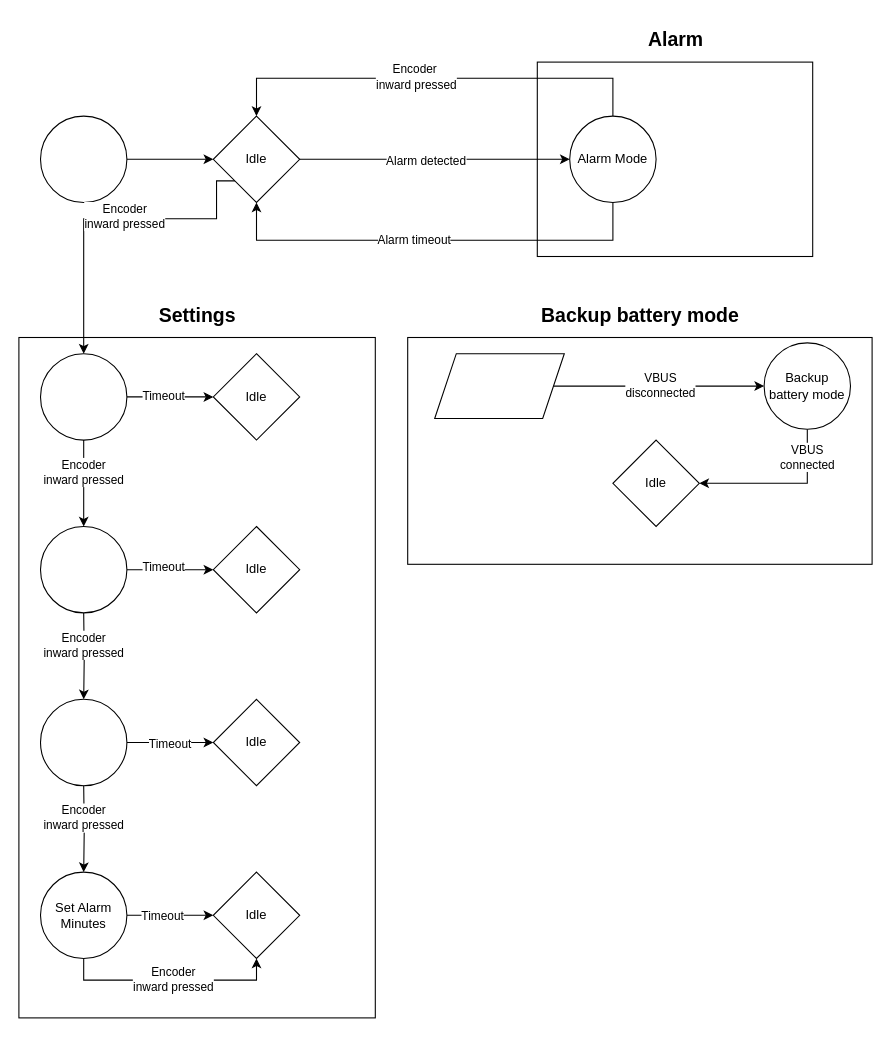
The diagram is 891 pixels wide and 1037 high, and some of its shapes have lost their labels. Here are the shapes that lost their labels. From the top down, the centre of each, then its label:
At point 83,158: "Start".
At point 83,396: "Set Clock Hours".
At point 499,385: "Any state".
At point 83,569: "Set Clock Minutes".
At point 83,742: "Set Alarm Hours".
